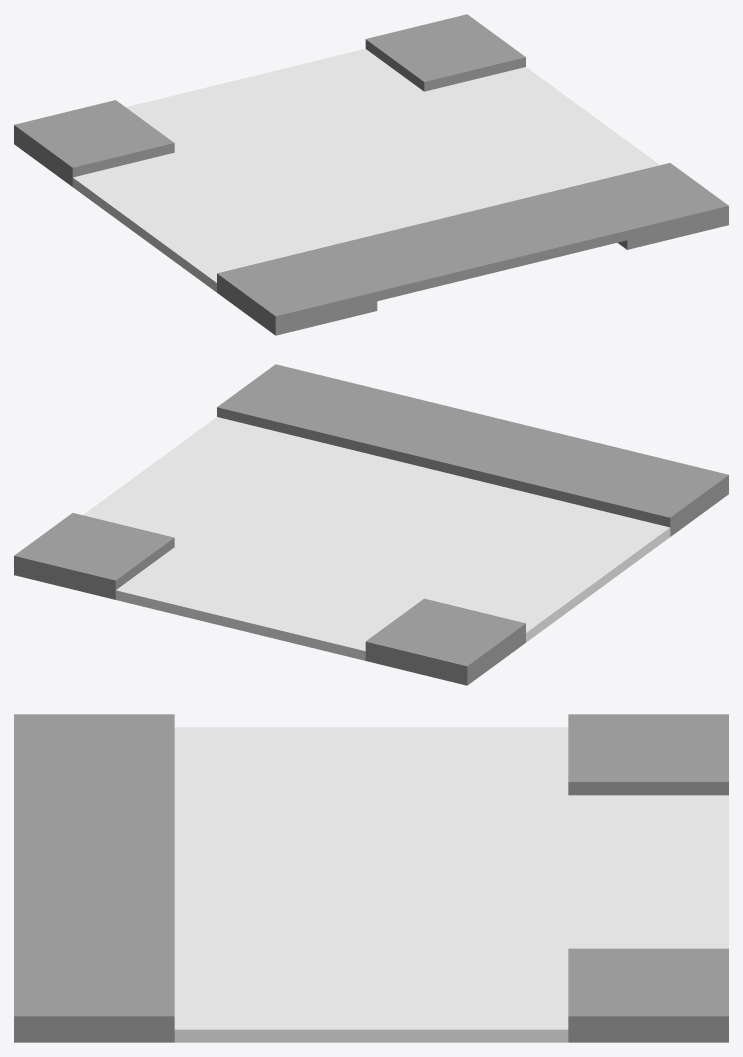
The model's file is road_JL_49.gltf.
3 renders of one model, top to bottom at view 1: azimuth 30°, elevation 25°; view 2: azimuth 150°, elevation 25°; view 3: azimuth 270°, elevation 25°, orthographic. The views are drawn at different scales.
Visible parts, largest first — view 1: tar, stone, ink; view 2: tar, stone, ink; view 3: tar, stone, ink.
Part boxes in pixels (<box>): tar: <box>78,51,659,288</box>; stone: <box>14,14,728,335</box>; ink: <box>72,48,600,292</box>; tar: <box>83,421,664,658</box>; stone: <box>14,364,728,685</box>; ink: <box>115,417,670,660</box>; tar: <box>189,727,728,1042</box>; stone: <box>14,714,728,1042</box>; ink: <box>174,727,728,1042</box>.
Size of the model in its own units: 49 by 2 by 49.
Materials: 3 (3 with a texture image).
